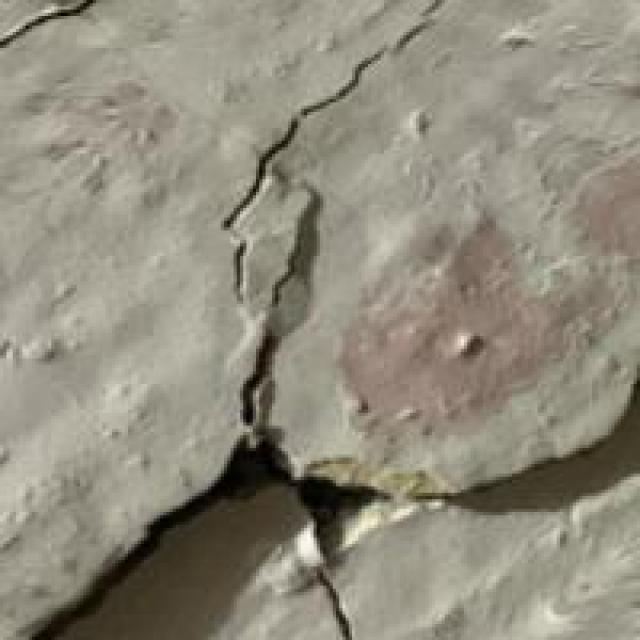Crack: (35, 51, 541, 637)
